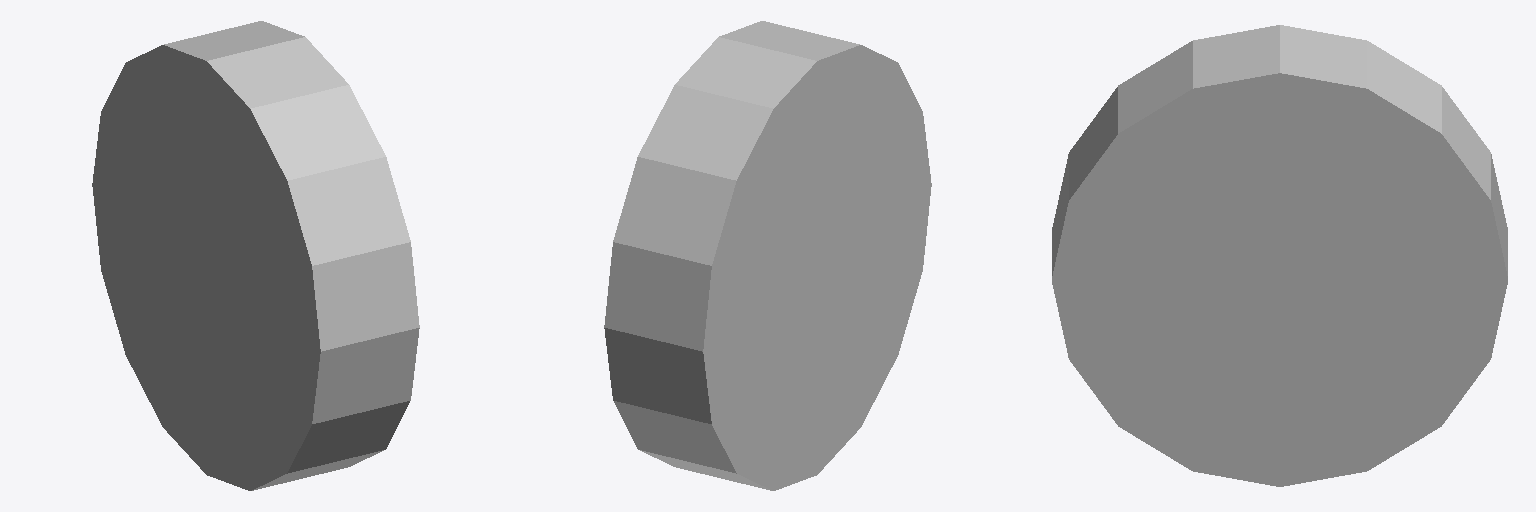
File: original-19.obj
3 renders of one model, left to right at view 1: azimuth 30°, elevation 25°; view 2: azimuth 150°, elevation 25°; view 3: azimuth 270°, elevation 25°, orthographic.
Visible parts, largest first — view 1: chamfer4/mesh66/mesh66-geometry#mesh66-geometry; view 2: chamfer4/mesh66/mesh66-geometry#mesh66-geometry; view 3: chamfer4/mesh66/mesh66-geometry#mesh66-geometry.
Part boxes in pixels (x1,y1,x2,y2): chamfer4/mesh66/mesh66-geometry#mesh66-geometry: (92,21,419,490); chamfer4/mesh66/mesh66-geometry#mesh66-geometry: (604,21,931,490); chamfer4/mesh66/mesh66-geometry#mesh66-geometry: (1052,25,1507,486).
Bounding box in the file's own units: 0.0809 × 0.3234 × 0.3234.